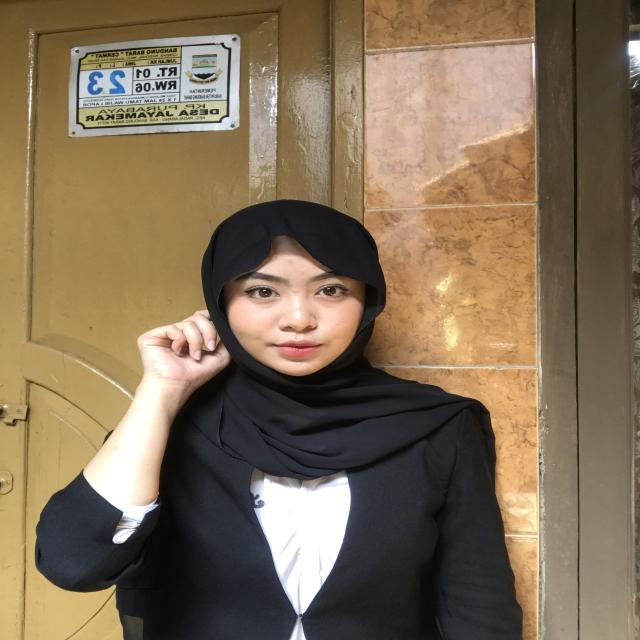ibu: (113, 296, 248, 436)
